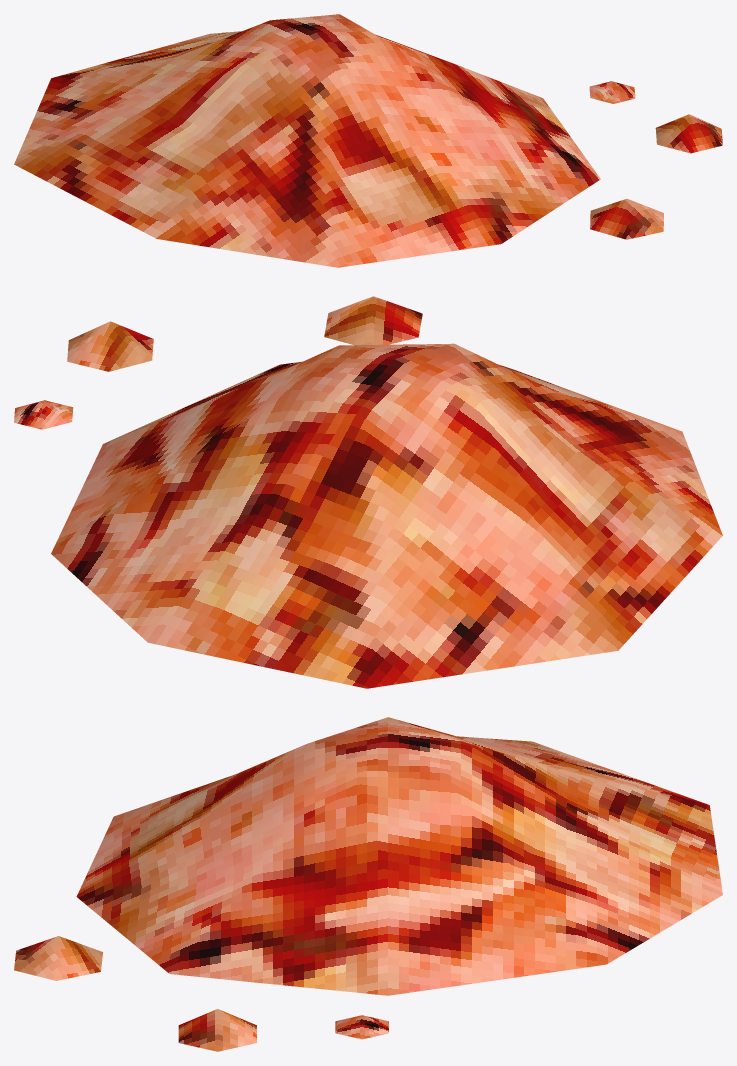
The model's file is Dried_Large.fbx.
The picture shows the model from 3 angles, top to bottom: view 1: azimuth 30°, elevation 25°; view 2: azimuth 150°, elevation 25°; view 3: azimuth 270°, elevation 25°; orthographic projection. The views are drawn at different scales.
Visible parts, largest first — view 1: Yeast; view 2: Yeast; view 3: Yeast.
Part boxes in pixels (<box>): Yeast: <box>14,14,722,267</box>; Yeast: <box>14,296,722,688</box>; Yeast: <box>14,717,722,1051</box>.
Bounding box in the file's own units: 21.93 × 4.47 × 21.18.
